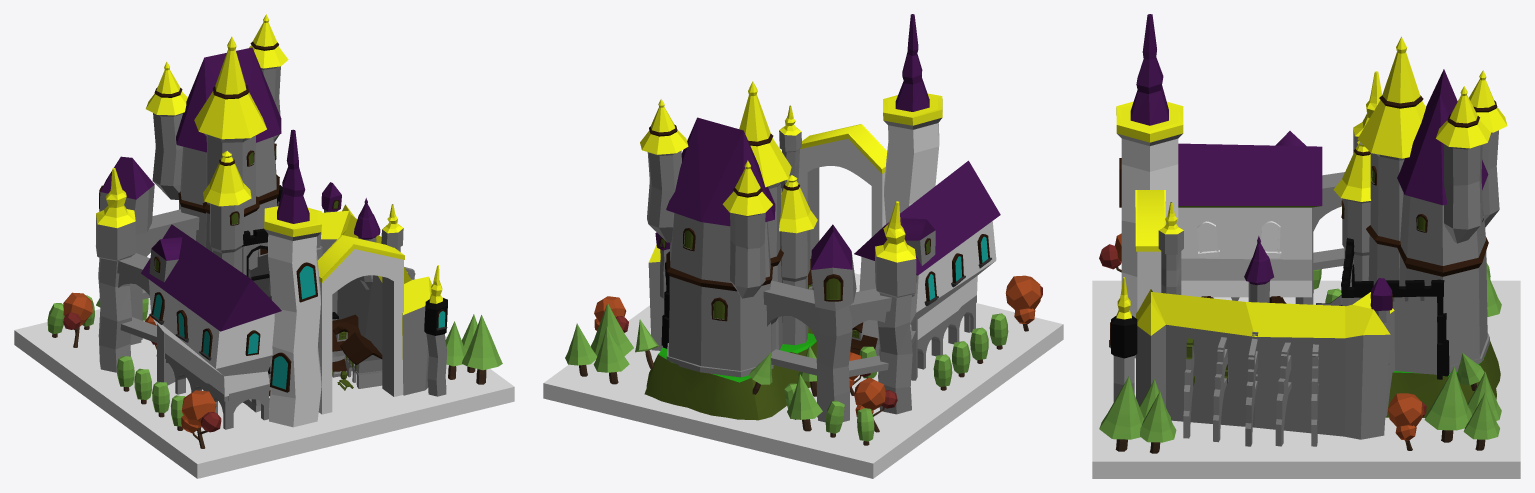
The model's file is Ciudad1 (1).FBX.
3 renders of one model, left to right at view 1: azimuth 30°, elevation 25°; view 2: azimuth 150°, elevation 25°; view 3: azimuth 270°, elevation 25°, orthographic. The views are drawn at different scales.
Parts seen in each view (by area): view 1: castle, Box026, Box004, Cylinder001, Box001, Pointy Tower EX002, Box003, Cylinder004, _geo_tavern_UV.004, Cylinder003, Puente3, pCylinder356.050 (+13 smaller); view 2: castle, Box026, Box004, Cylinder001, Box012, Pointy Tower EX002, Cylinder004, Box001, Puente1, Puente2, pCylinder356.050, Box013 (+15 smaller); view 3: castle, Box026, Box003, Box004, Cylinder001, Box013, Ciudad1, Box001, Box012, Cylinder003, group267_pCylinder347.015, group267_pCylinder347.039 (+10 smaller).
Part boxes in pixels (x1,y1,x2,y2): castle: (146, 14, 322, 299); Box026: (14, 298, 514, 478); Box004: (141, 224, 281, 396); Cylinder001: (264, 129, 321, 427); Box001: (317, 235, 404, 414); Pointy Tower EX002: (96, 168, 135, 372); Box003: (337, 215, 432, 395); Cylinder004: (99, 156, 154, 344); _geo_tavern_UV.004: (332, 332, 382, 390); Cylinder003: (424, 265, 447, 396); Puente3: (117, 253, 175, 385); pCylinder356.050: (181, 390, 221, 448); castle: (640, 81, 817, 377); Box026: (543, 273, 1063, 478); Box004: (854, 160, 1000, 339); Cylinder001: (883, 14, 942, 223); Box012: (644, 333, 816, 420); Pointy Tower EX002: (875, 201, 916, 414); Cylinder004: (811, 224, 856, 422); Box001: (798, 124, 887, 258); Puente1: (763, 280, 819, 417); Puente2: (848, 288, 891, 376); pCylinder356.050: (1005, 275, 1042, 331); Box013: (648, 245, 664, 350); castle: (1316, 36, 1507, 379); Box026: (1092, 280, 1520, 478); Box003: (1136, 289, 1345, 436); Box004: (1178, 143, 1322, 297); Cylinder001: (1116, 14, 1183, 358); Box013: (1344, 292, 1395, 439); Ciudad1: (1183, 236, 1318, 446); Box001: (1135, 190, 1165, 311); Box012: (1385, 341, 1500, 417); Cylinder003: (1111, 277, 1137, 401); group267_pCylinder347.015: (1424, 367, 1471, 442); group267_pCylinder347.039: (1099, 376, 1144, 451).
Size of the model in its own units: 201 by 193 by 201.
